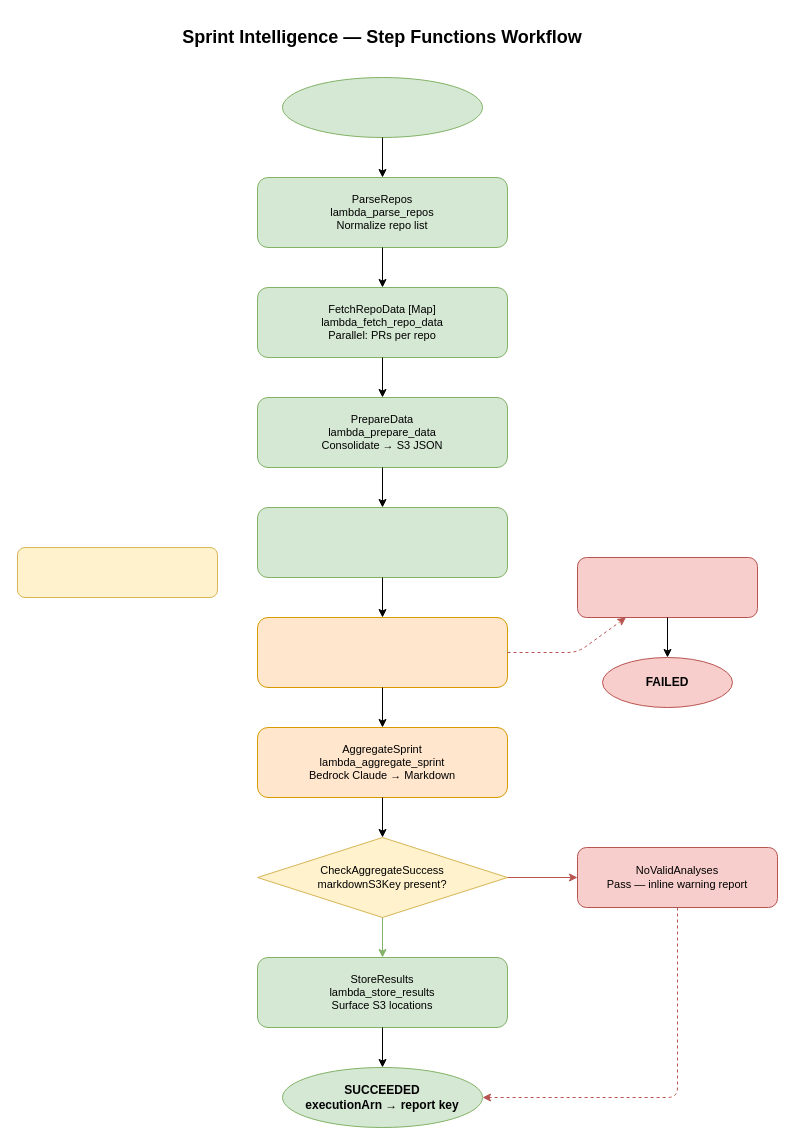
The diagram is 795 pixels wide and 1145 high, and some of its shapes have lost their labels. Here are the shapes that lost their labels. From the top down, the centre of each, then its label:
At point (382, 107): "Start POST /workflow".
At point (382, 542): "FetchPRDetails [Map] lambda_fetch_pr_details Parallel: diffs + reviews per PR".
At point (117, 572): "All states retry 3× backoff: 2s, rate 2.0, max 30s".
At point (667, 587): "WorkflowError Catch all Lambda errors".
At point (382, 652): "AnalyzePR [Map] lambda_analyze_pr Bedrock Claude per PR → JSON".
